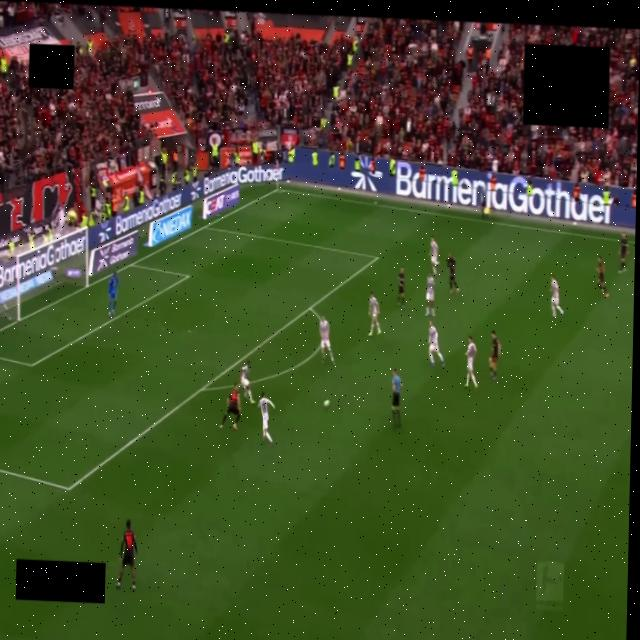ball: (323, 400, 329, 407)
player: (116, 519, 137, 591), (220, 384, 240, 430), (258, 392, 274, 443), (319, 316, 334, 365), (429, 321, 444, 367), (489, 330, 502, 381), (465, 336, 477, 388), (241, 360, 254, 404), (368, 293, 381, 336), (551, 276, 564, 317), (447, 253, 459, 294), (597, 256, 608, 298), (108, 272, 118, 316), (425, 274, 435, 316), (619, 233, 628, 274), (430, 236, 439, 275), (398, 267, 404, 308)
referee: (392, 370, 402, 426)
